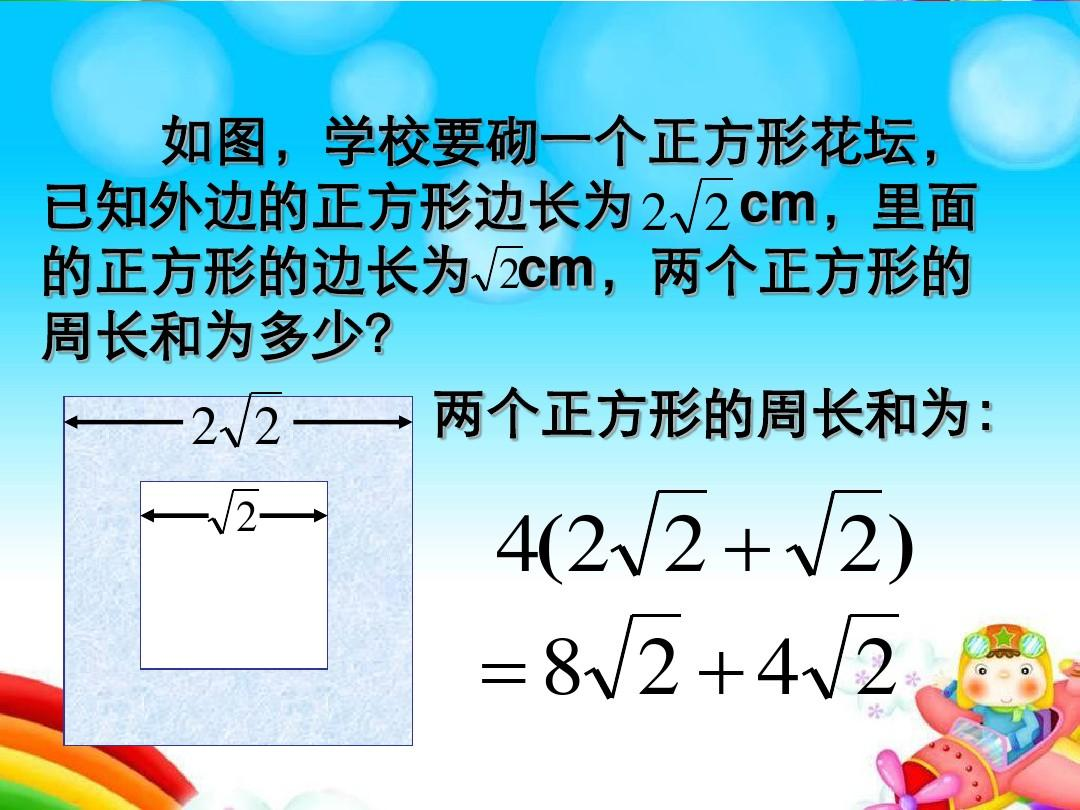sqrt: (603, 486, 706, 585), (780, 485, 884, 575), (803, 612, 904, 704), (585, 610, 683, 704), (218, 388, 289, 448), (676, 174, 732, 238), (205, 484, 263, 535), (473, 243, 525, 295)
